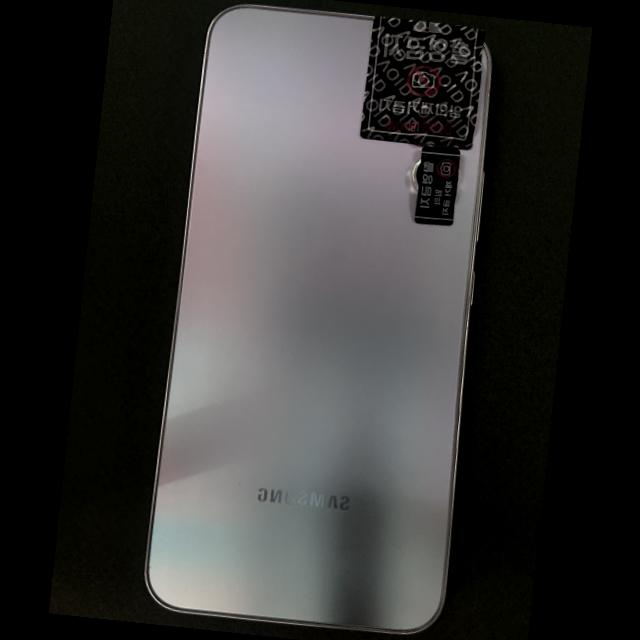lens: (411, 160, 420, 191)
phone: (142, 3, 493, 635)
sticker: (359, 14, 485, 150), (414, 146, 460, 226)
